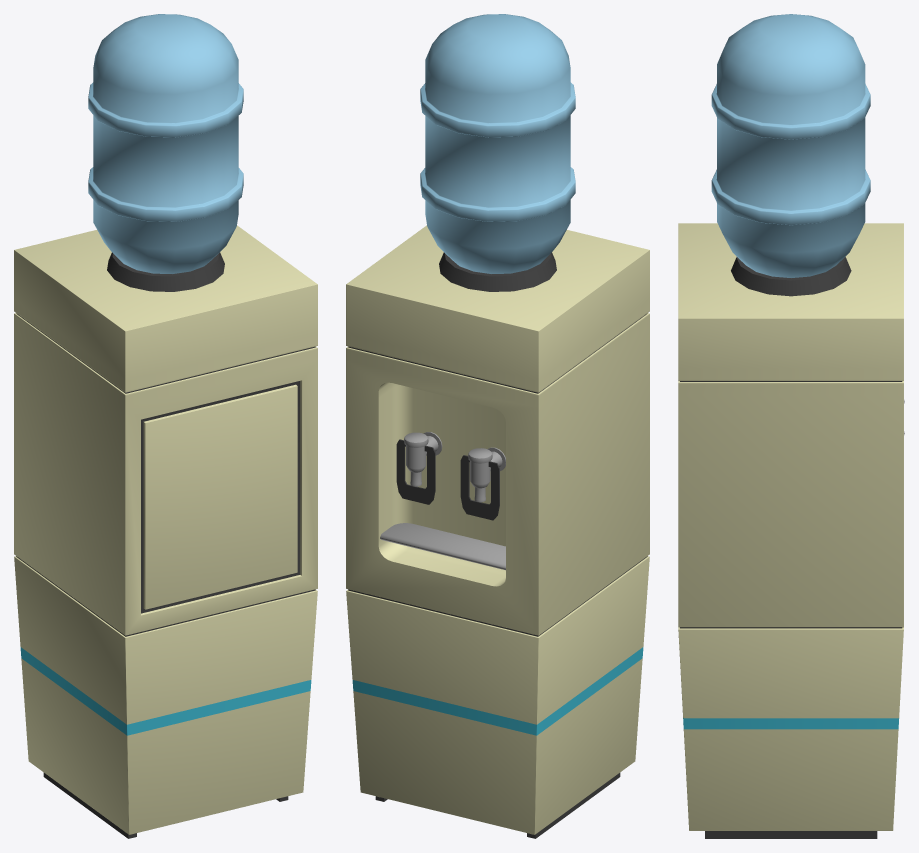
Rendered from WaterDistributor.fbx.
3 views of the same model, side by side, from view 1: azimuth 30°, elevation 25°; view 2: azimuth 150°, elevation 25°; view 3: azimuth 270°, elevation 25° (orthographic).
Visible parts, largest first — view 1: Cube.099, Cylinder.042, Cylinder.041; view 2: Cube.099, Cylinder.042, Cube.106, Cube.101, Cylinder.041, Cylinder.040; view 3: Cube.099, Cylinder.042, Cylinder.041, Cube.102.
Boxes of the visible parts, x1,y1,x2,y2 form: Cube.099: (14, 225, 317, 834); Cylinder.042: (88, 14, 243, 273); Cylinder.041: (107, 252, 224, 291); Cube.099: (346, 225, 649, 834); Cylinder.042: (420, 14, 575, 273); Cube.106: (380, 523, 505, 570); Cube.101: (396, 439, 499, 520); Cylinder.041: (439, 252, 556, 291); Cylinder.040: (404, 432, 492, 502); Cube.099: (678, 223, 903, 830); Cylinder.042: (711, 14, 870, 277); Cylinder.041: (731, 257, 851, 296); Cube.102: (705, 831, 877, 838).
Bounding box in the file's own units: 87.03 × 329 × 87.3.
